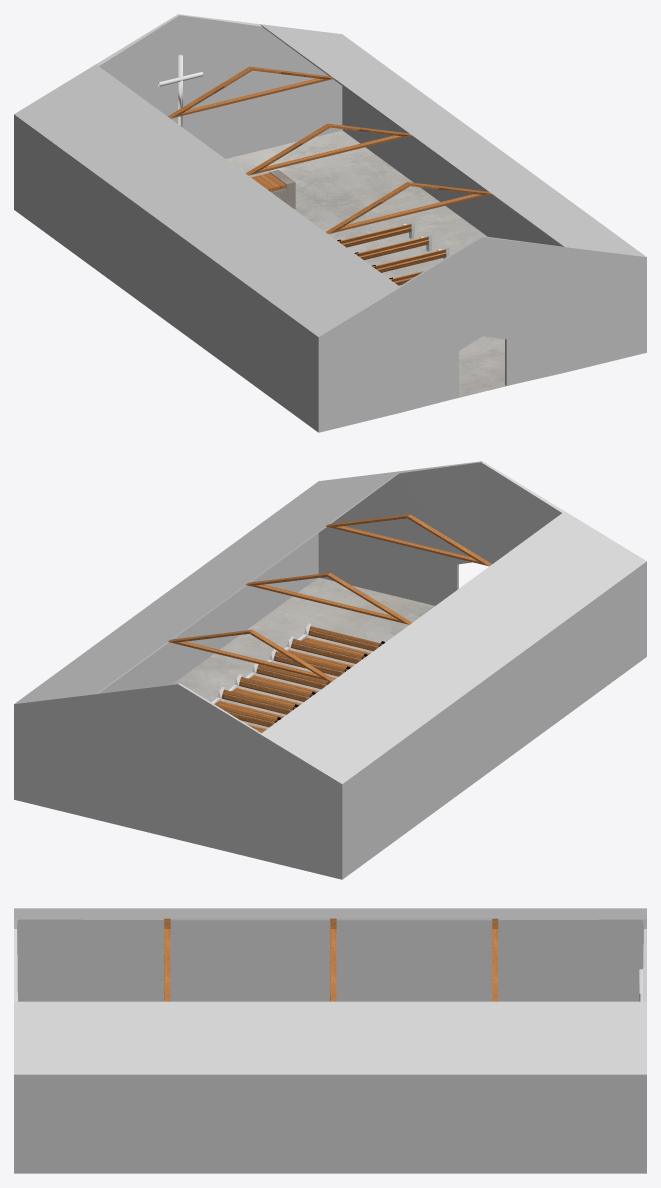
File: Church.fbx
The picture shows the model from 3 angles, top to bottom: view 1: azimuth 30°, elevation 25°; view 2: azimuth 150°, elevation 25°; view 3: azimuth 270°, elevation 25°; orthographic projection. The views are drawn at different scales.
Parts seen in each view (by area): view 1: Plane, Plane.001, Plane.004, Plane.001_bench_arm_r_0, ConcreteBase_1; view 2: Plane, Plane.001, Plane.001_bench_arm_r_0, Plane.004; view 3: Plane, Plane.004.
Boxes of the visible parts, bbox=[...] form: Plane: bbox=[14, 14, 646, 432]; Plane.001: bbox=[226, 130, 509, 398]; Plane.004: bbox=[168, 66, 491, 233]; Plane.001_bench_arm_r_0: bbox=[337, 222, 449, 285]; ConcreteBase_1: bbox=[251, 170, 295, 208]; Plane: bbox=[14, 461, 646, 879]; Plane.001: bbox=[173, 577, 434, 728]; Plane.001_bench_arm_r_0: bbox=[212, 623, 384, 732]; Plane.004: bbox=[168, 514, 491, 681]; Plane: bbox=[14, 908, 646, 1173]; Plane.004: bbox=[164, 918, 498, 1001].
Size of the model in its own units: 2248 by 1018 by 3614.
Materials: 10 (6 with a texture image).
